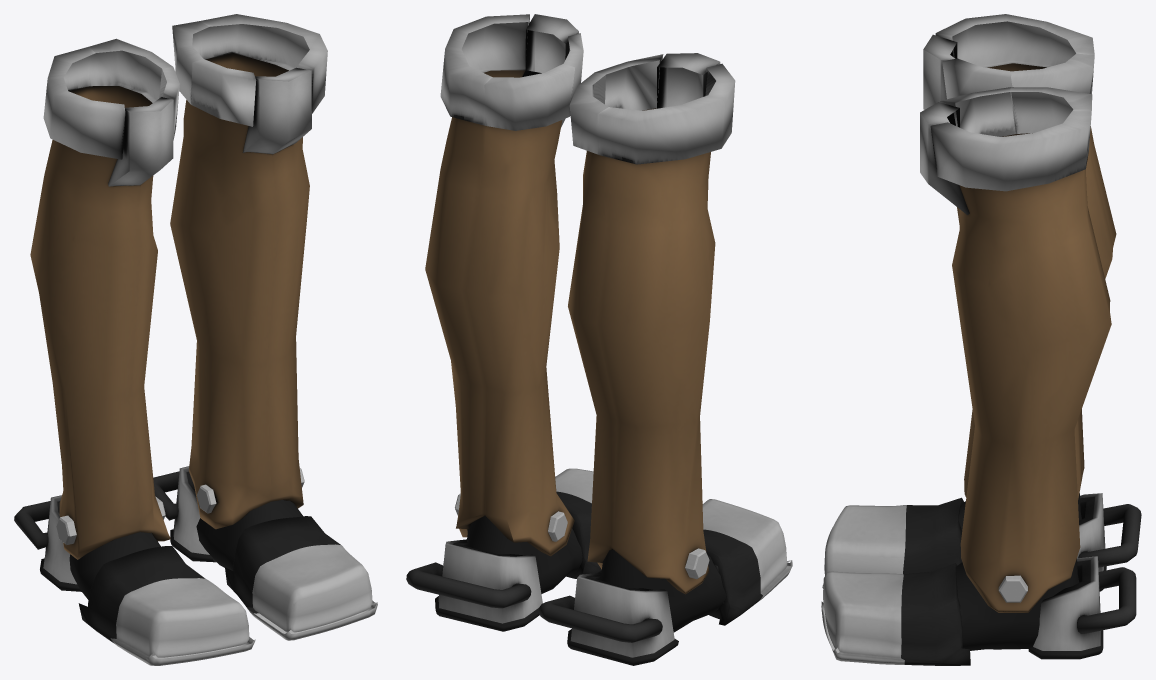
File: MateoBoots.dae
3 renders of one model, left to right at view 1: azimuth 30°, elevation 25°; view 2: azimuth 150°, elevation 25°; view 3: azimuth 270°, elevation 25°, orthographic. The views are drawn at different scales.
Parts seen in each view (by area): view 1: Vert.002; view 2: Vert.002; view 3: Vert.002.
Boxes of the visible parts, x1,y1,x2,y2 form: Vert.002: [14, 14, 377, 665]; Vert.002: [406, 14, 792, 665]; Vert.002: [821, 14, 1141, 665].
Size of the model in its own units: 0.3468 by 0.3548 by 0.6492.
